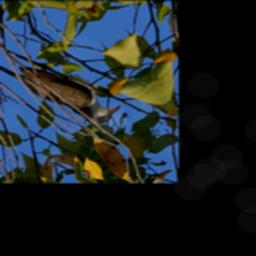Cuckoo: (13, 29, 138, 143)
